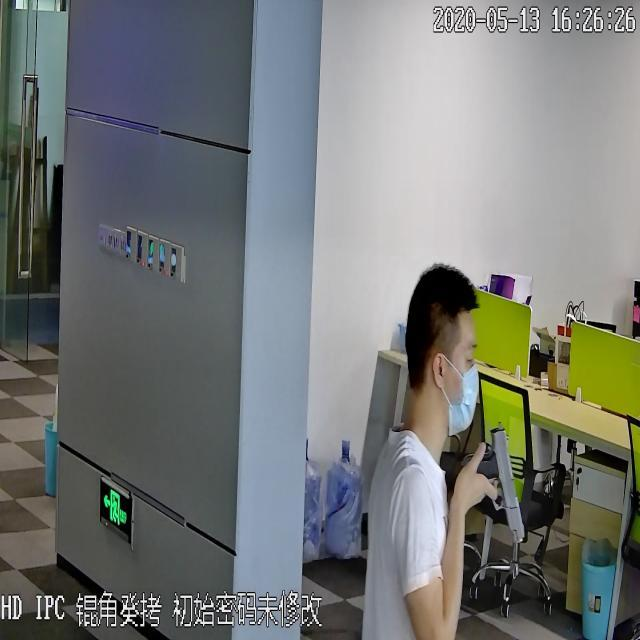gun: (461, 420, 528, 544)
